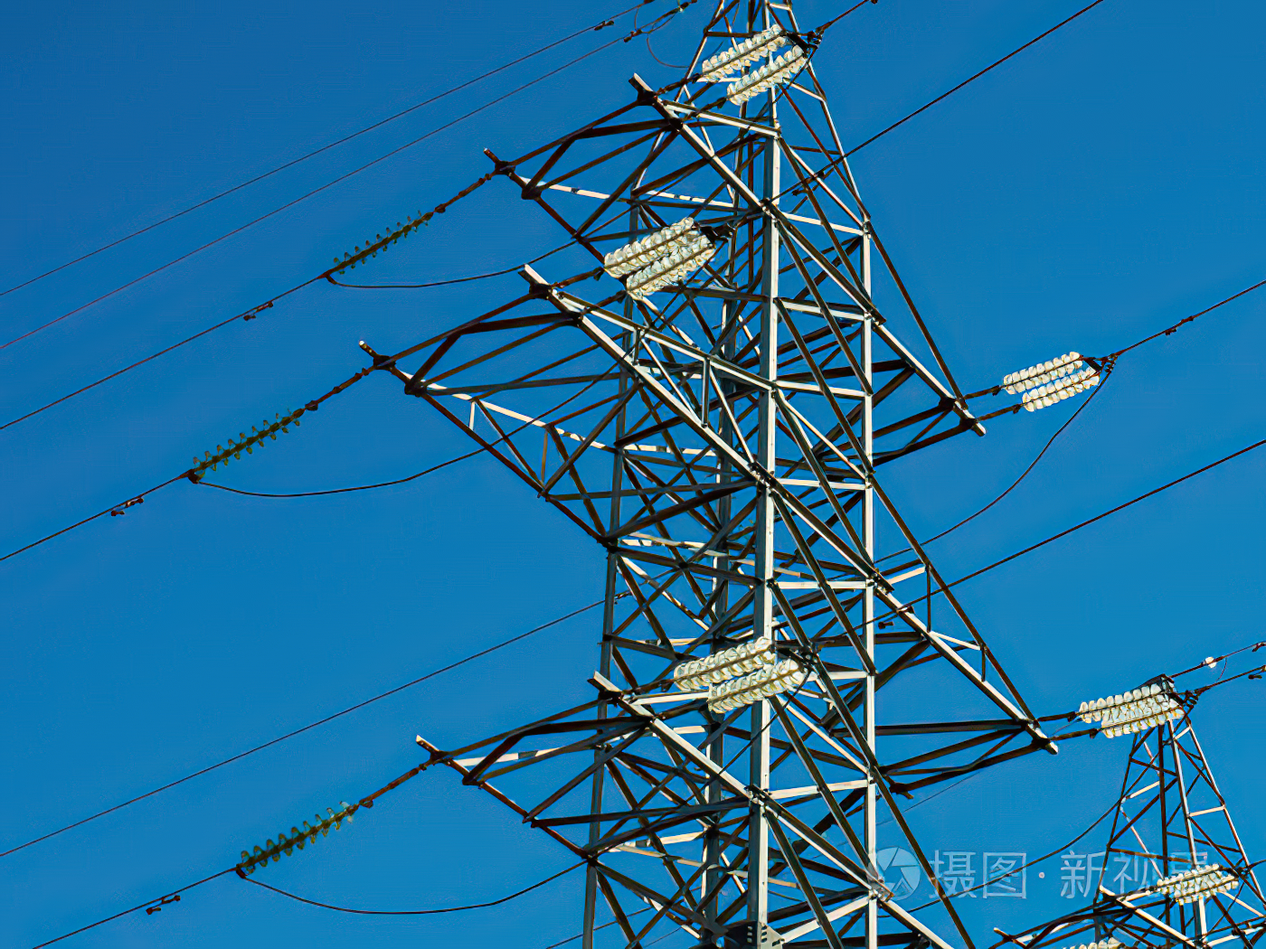insulator: (667, 642, 807, 714), (239, 798, 358, 878), (601, 219, 711, 301), (193, 404, 304, 479), (702, 27, 804, 106), (332, 206, 430, 280), (1078, 687, 1190, 742), (1002, 352, 1098, 413), (1156, 864, 1240, 904)
